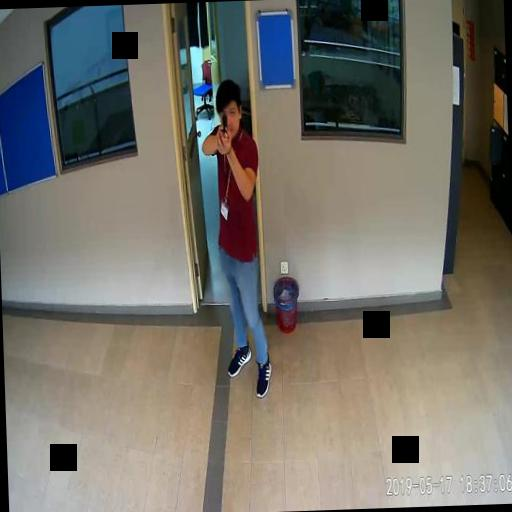Handgun: (217, 110, 229, 142)
